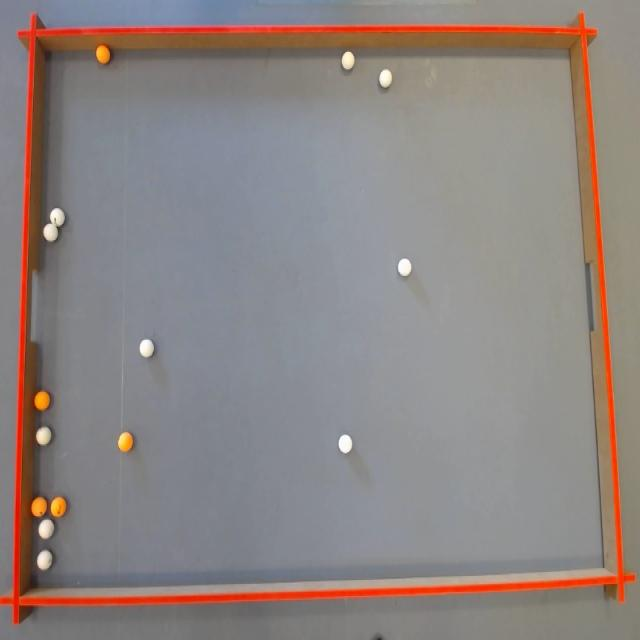orange_ball: (50, 497, 66, 518), (34, 391, 50, 411), (31, 497, 47, 517), (118, 432, 133, 452), (96, 44, 110, 64)
white_ball: (37, 550, 53, 571), (39, 518, 54, 540), (36, 426, 51, 446), (50, 208, 65, 228), (139, 339, 154, 358), (43, 223, 58, 242), (339, 434, 352, 454), (379, 69, 392, 88), (398, 258, 411, 276), (342, 51, 354, 70)
